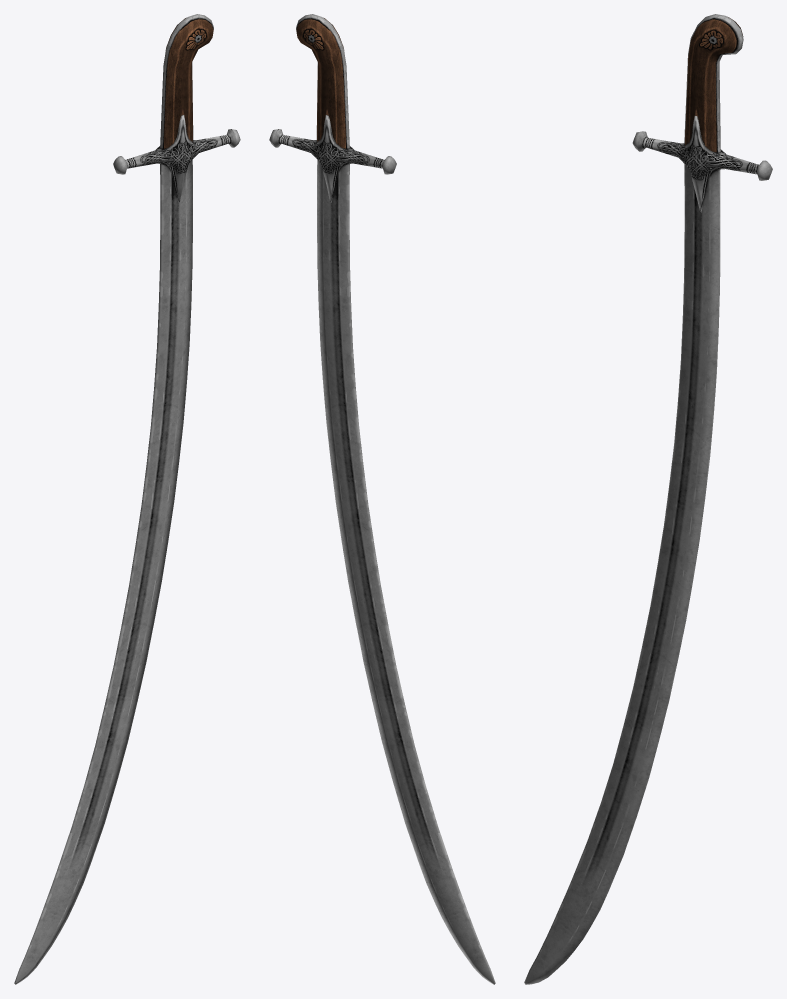
Rendered from sword.glb.
3 renders of one model, left to right at view 1: azimuth 30°, elevation 25°; view 2: azimuth 150°, elevation 25°; view 3: azimuth 330°, elevation 25°, orthographic. The views are drawn at different scales.
Visible parts, largest first — view 1: Object_2; view 2: Object_2; view 3: Object_2.
Part boxes in pixels (x1,y1,x2,y2): Object_2: [14, 14, 240, 984]; Object_2: [269, 14, 495, 984]; Object_2: [524, 14, 772, 984].
Size of the model in its own units: 16.29 by 64.03 by 2.13.
1 material, 1 textured.
